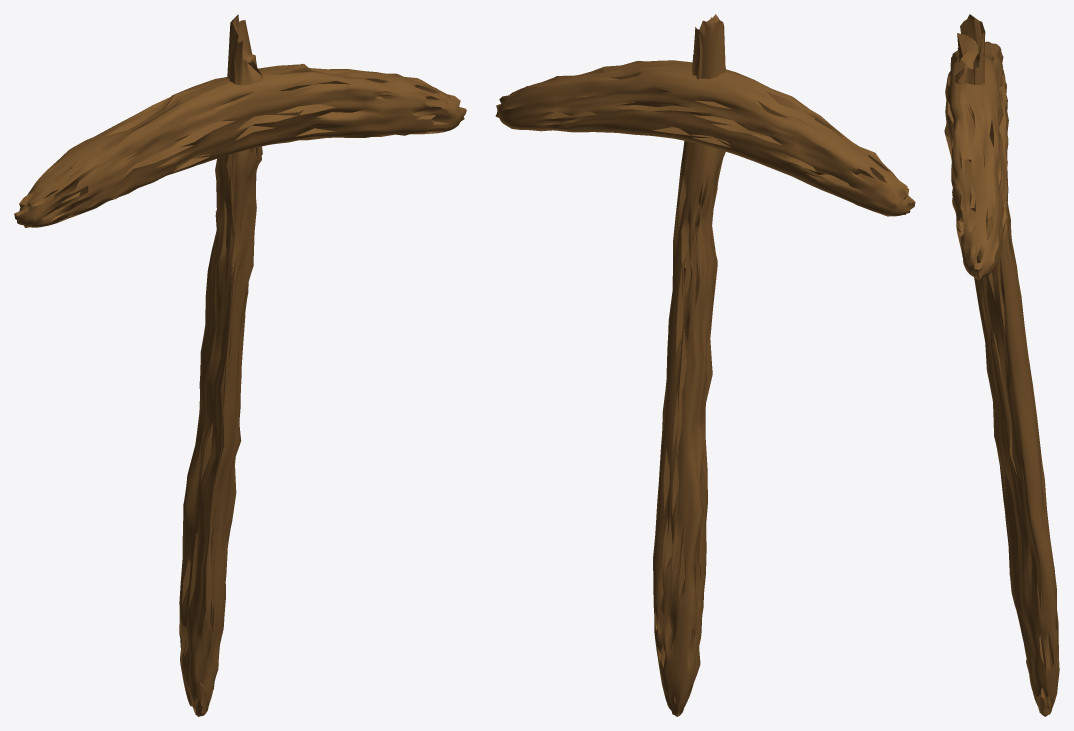
The model's file is pick axe wood animated.glb.
3 views of the same model, side by side, from view 1: azimuth 30°, elevation 25°; view 2: azimuth 150°, elevation 25°; view 3: azimuth 270°, elevation 25° (orthographic). The views are drawn at different scales.
Visible parts, largest first — view 1: Object_3, Object_2; view 2: Object_3, Object_2; view 3: Object_2, Object_3.
Part boxes in pixels (x1=…): Object_3: x1=14, y1=63, x2=466, y2=227; Object_2: x1=179, y1=14, x2=262, y2=716; Object_3: x1=495, y1=60, x2=915, y2=216; Object_2: x1=653, y1=14, x2=726, y2=716; Object_2: x1=955, y1=14, x2=1059, y2=716; Object_3: x1=944, y1=41, x2=1008, y2=280.
Bounding box in the file's own units: 16.16 × 24.95 × 3.72.
